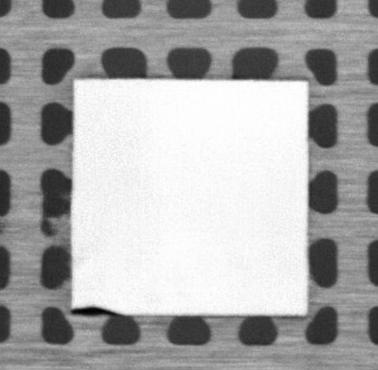DIE_BROKEN: (71, 304, 120, 316)
